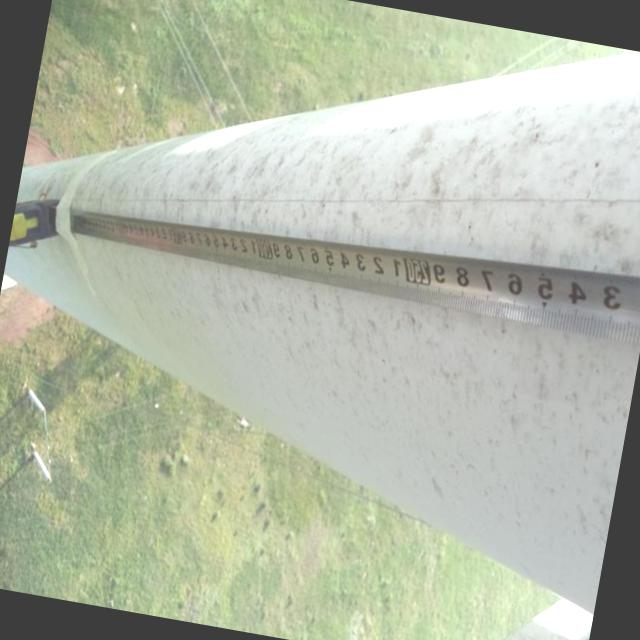crack: (373, 144, 640, 256), (129, 154, 370, 242)
